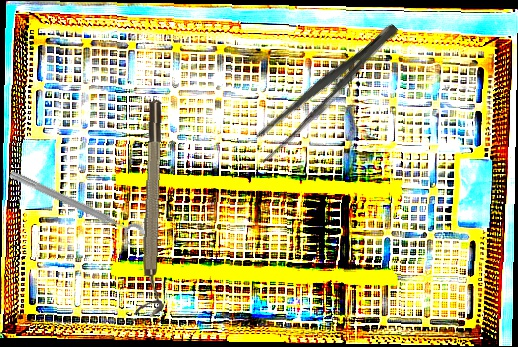Dressing Forceps: (245, 13, 406, 168)
Fixation Ring: (3, 166, 148, 251), (134, 99, 175, 318)
